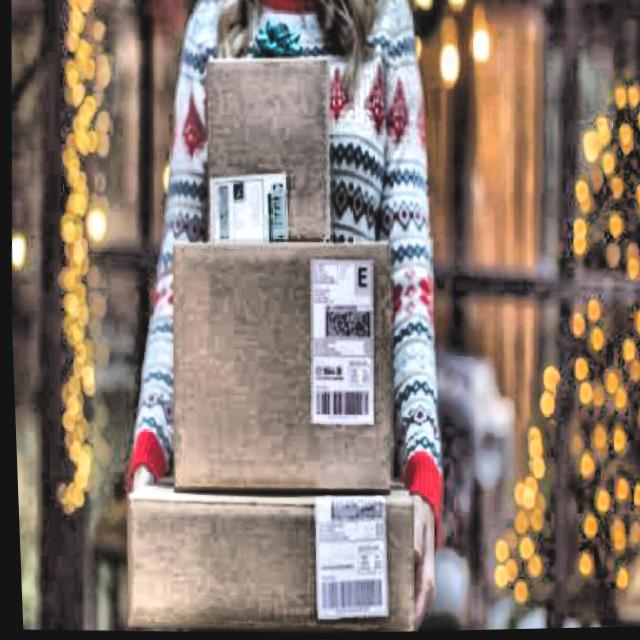Cardbox: (141, 221, 416, 507), (103, 460, 410, 638), (180, 46, 354, 255)
